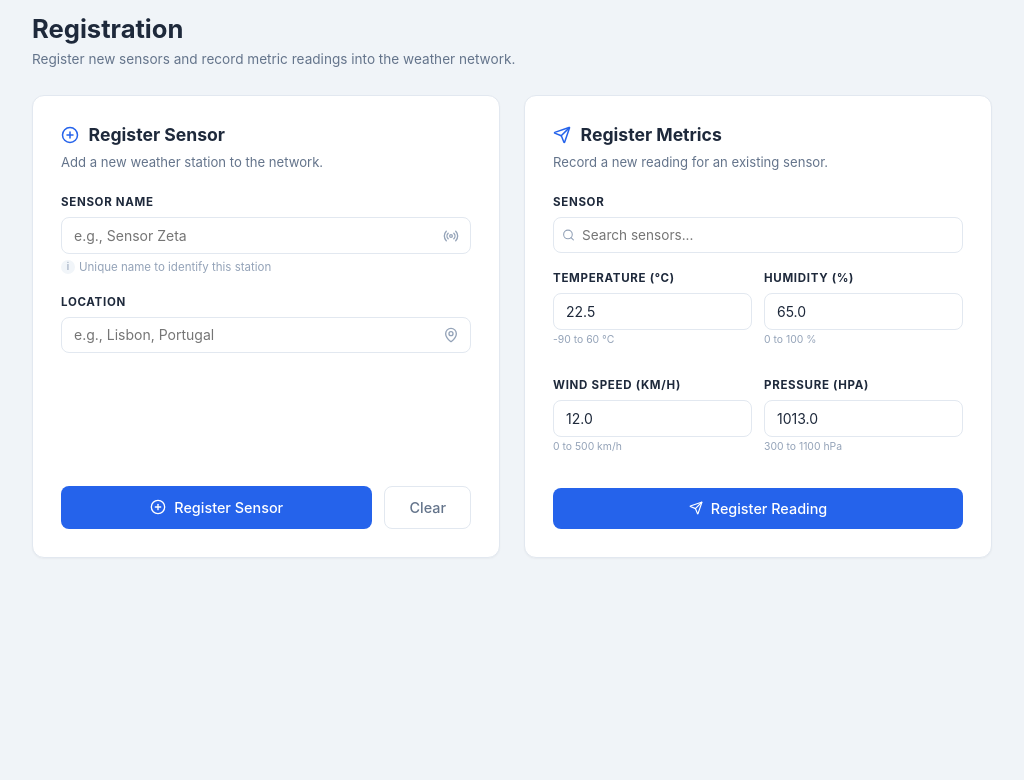
Scenario: Registration › ingests metrics for selected sensor
The width and height of the screenshot is (1024, 780).
In the field with placeholder "Search sensors...": (758, 235) [553, 218, 963, 253], type "Alpha"
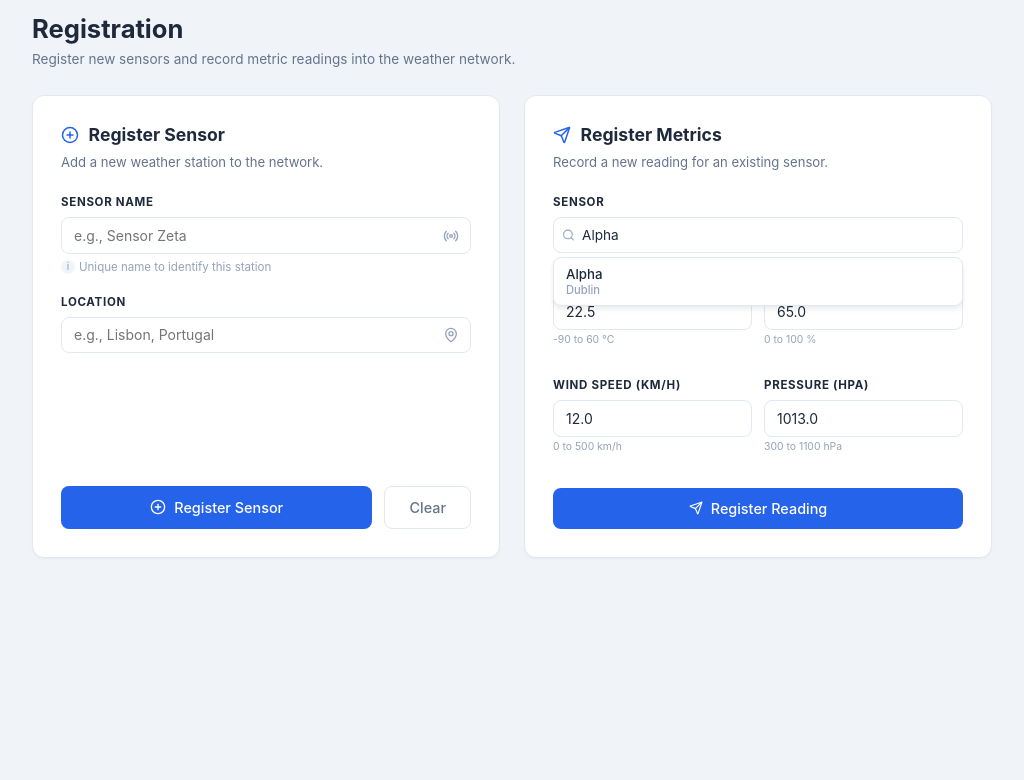
Now the button "Alpha Dublin" is shown
Click the button "Alpha Dublin": (584, 274) [554, 258, 962, 305]
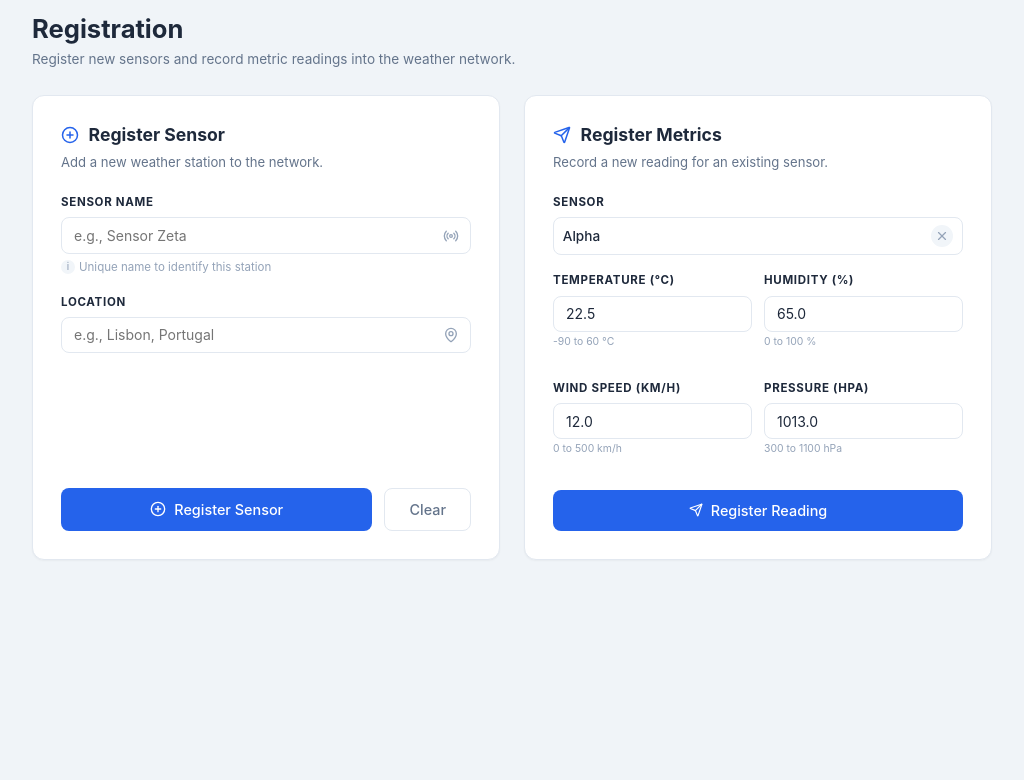
Now the text "Alpha" is shown, box [563, 228, 600, 244]
Click the button "Register Reading": (758, 510) [553, 490, 963, 531]
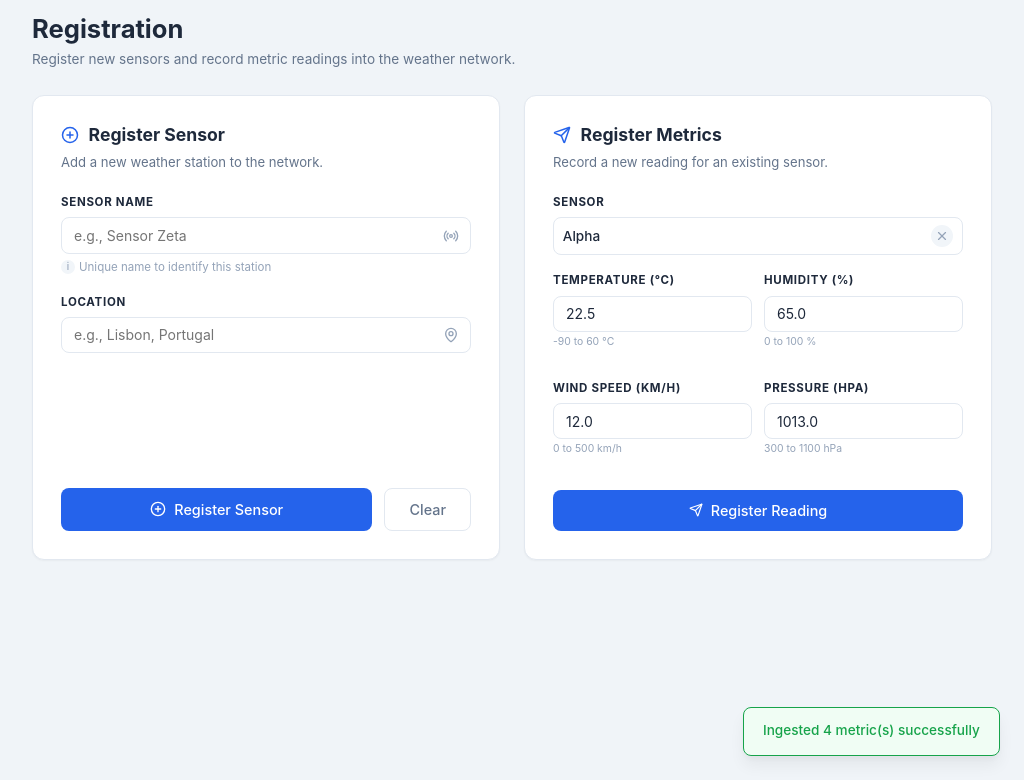
Now the text "Ingested 4 metric(s) successfully" is shown, box [743, 707, 1000, 756]
